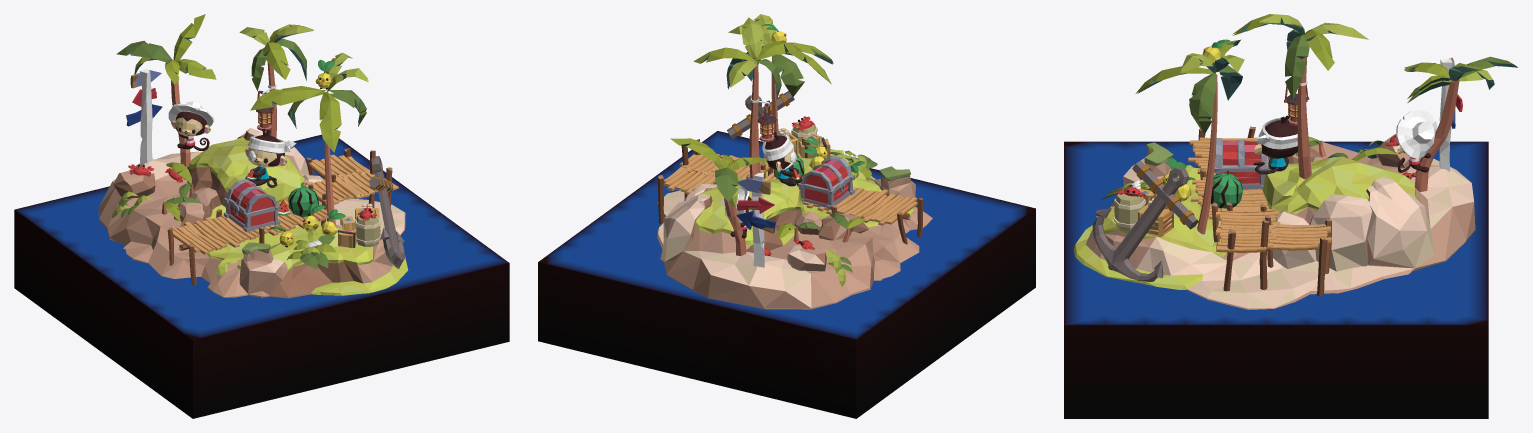
Rendered from 0045_monkeySecretTrip.fbx.
3 renders of one model, left to right at view 1: azimuth 30°, elevation 25°; view 2: azimuth 150°, elevation 25°; view 3: azimuth 270°, elevation 25°, orthographic. The views are drawn at different scales.
Visible parts, largest first — view 1: [water]water, Island, Leaf02 (×4), Brigde2 (×2), Brigde1 (×3), chest, Stone6, anchor, direction_post, Stone3, monkey_head, box_03 (+9 smaller); view 2: [water]water, Island, chest, Brigde2, Stone1, Brigde1 (×2), Tree (×2), Leaf01 (×2), post, Leaf02 (×2), Stone6, Stone3 (+6 smaller); view 3: [water]water, Island, Stone1, anchor, Brigde1 (×3), Tree (×3), Stone7, Leaf01 (×3), chest, Brigde2 (×2), monkey_hat, Leaf02 (×2) (+13 smaller).
Boxes of the visible parts, bbox=[...] form: [water]water: bbox=[14, 134, 509, 418]; Island: bbox=[98, 137, 408, 298]; Leaf02 (×4): bbox=[173, 14, 341, 152]; Brigde2 (×2): bbox=[170, 199, 328, 254]; Brigde1 (×3): bbox=[303, 154, 398, 204]; chest: bbox=[224, 179, 280, 232]; Stone6: bbox=[239, 242, 287, 294]; anchor: bbox=[369, 156, 405, 268]; direction_post: bbox=[139, 68, 152, 163]; Stone3: bbox=[113, 170, 155, 198]; monkey_head: bbox=[171, 111, 210, 136]; box_03: bbox=[355, 213, 380, 246]; [water]water: bbox=[538, 131, 1035, 418]; Island: bbox=[657, 149, 932, 309]; chest: bbox=[798, 155, 854, 209]; Brigde2: bbox=[817, 187, 917, 225]; Stone1: bbox=[663, 194, 712, 261]; Brigde1 (×2): bbox=[663, 154, 735, 194]; Tree (×2): bbox=[724, 61, 760, 255]; Leaf01 (×2): bbox=[715, 54, 804, 201]; post: bbox=[736, 178, 775, 233]; Leaf02 (×2): bbox=[670, 47, 752, 168]; Stone6: bbox=[874, 166, 915, 198]; Stone3: bbox=[787, 245, 826, 271]; [water]water: bbox=[1064, 141, 1488, 418]; Island: bbox=[1073, 142, 1475, 309]; Stone1: bbox=[1366, 177, 1434, 268]; anchor: bbox=[1092, 160, 1198, 281]; Brigde1 (×3): bbox=[1215, 208, 1331, 252]; Tree (×3): bbox=[1197, 57, 1459, 234]; Stone7: bbox=[1309, 194, 1371, 271]; Leaf01 (×3): bbox=[1189, 34, 1309, 119]; chest: bbox=[1214, 138, 1268, 189]; Brigde2 (×2): bbox=[1188, 137, 1270, 219]; monkey_hat: bbox=[1396, 110, 1437, 159]; Leaf02 (×2): bbox=[1135, 29, 1334, 93].
Bounding box in the file's own units: 9.41 × 7.98 × 9.85.
